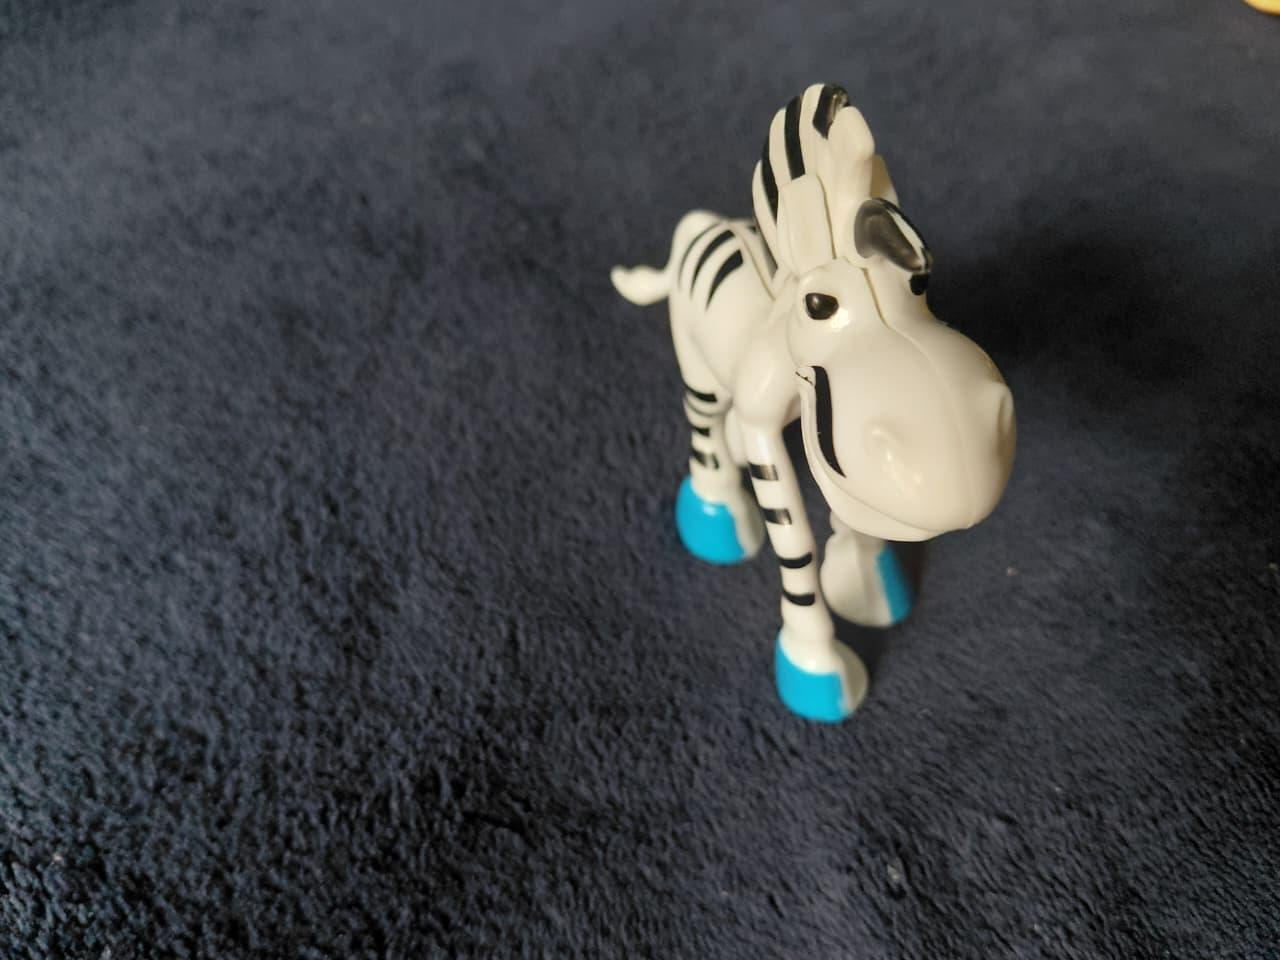zebra: (608, 71, 1038, 737)
